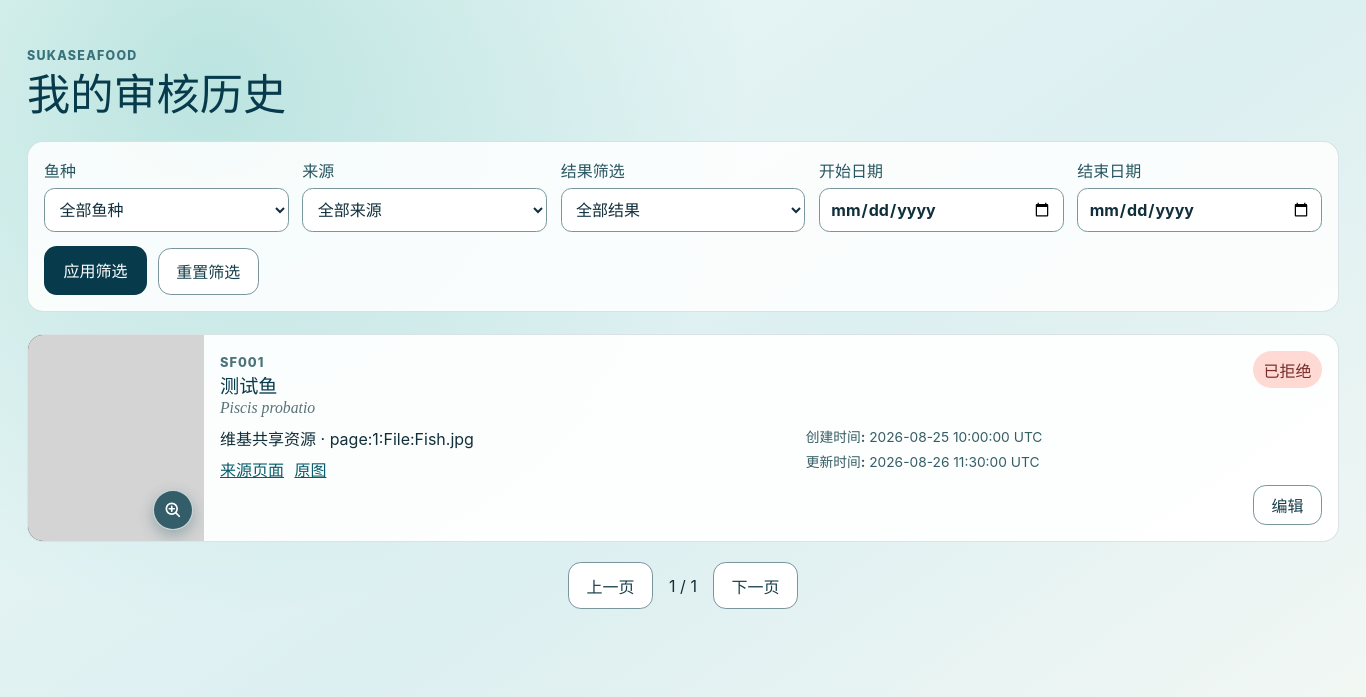
Test: HistoryPage links, privacy, and editing › sends one versioned CSRF PATCH and claims success only after validation and refetch
Click the button "编辑".
click(1287, 505)  # box [1253, 485, 1322, 525]
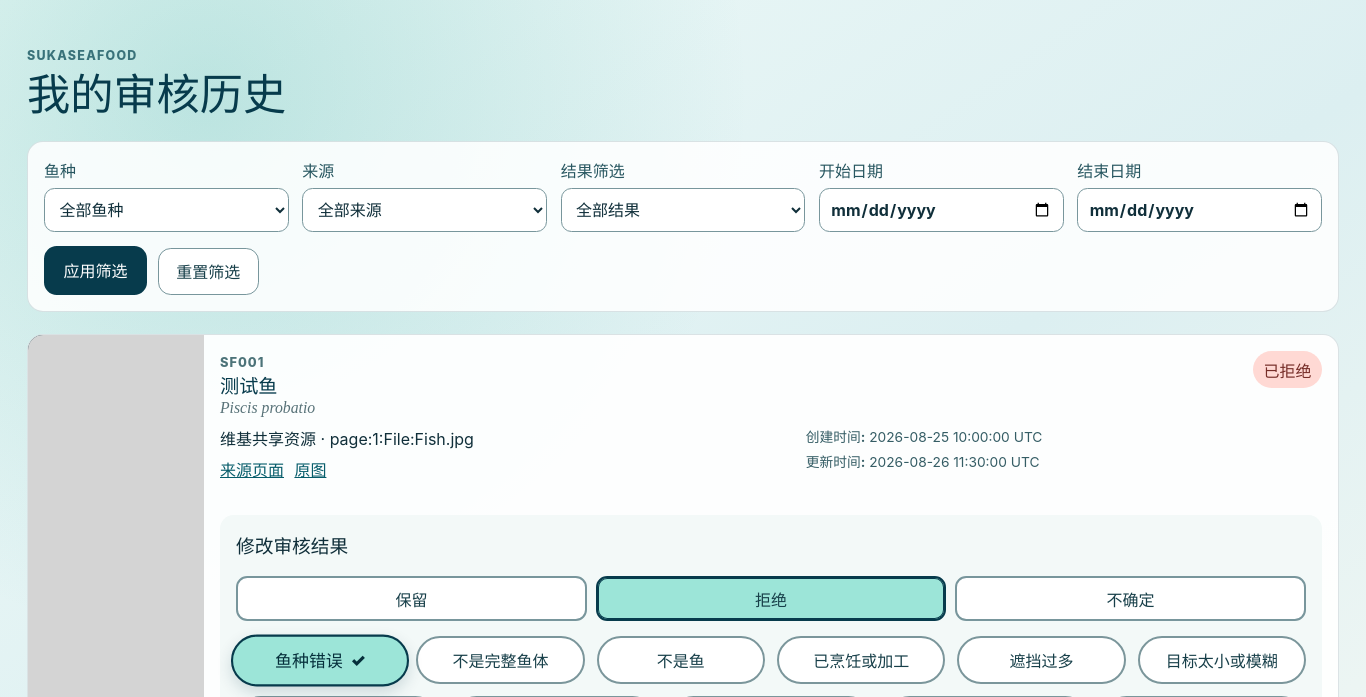
Click the button "保留".
click(411, 599)  # box [236, 576, 587, 621]
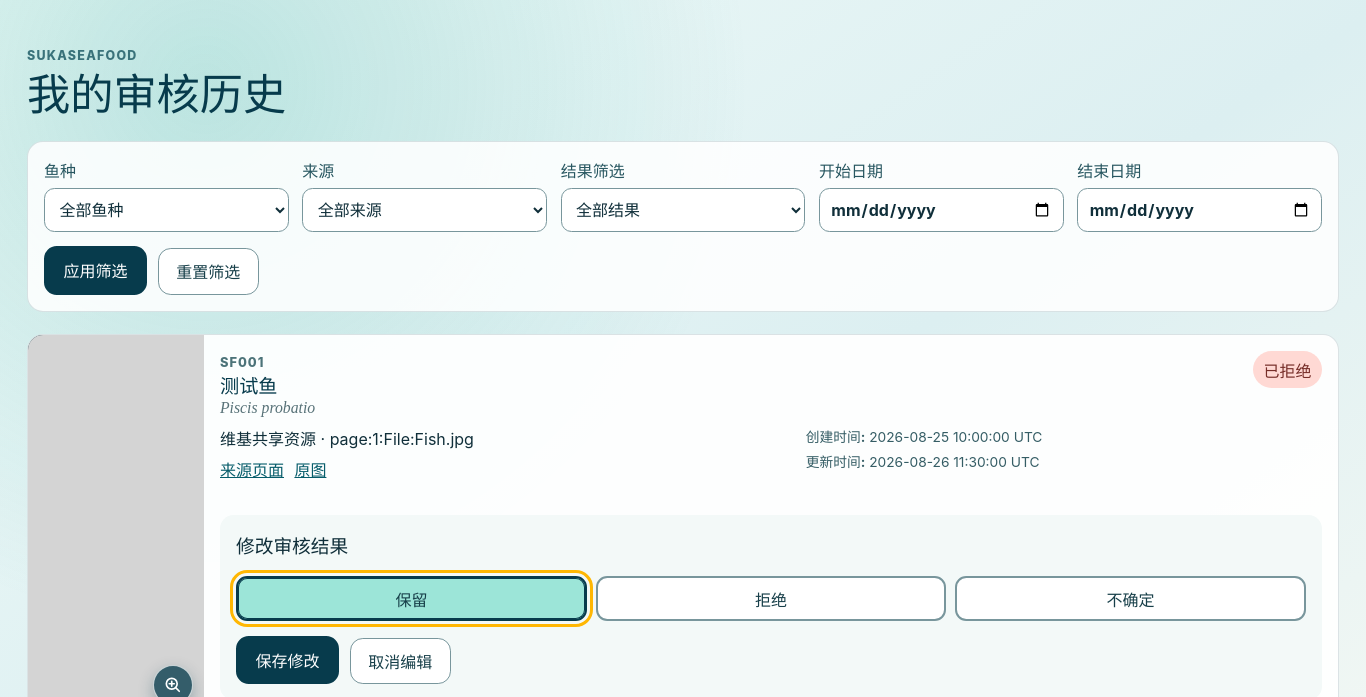
Click the button "保存修改".
click(288, 660)  # box [236, 636, 339, 684]
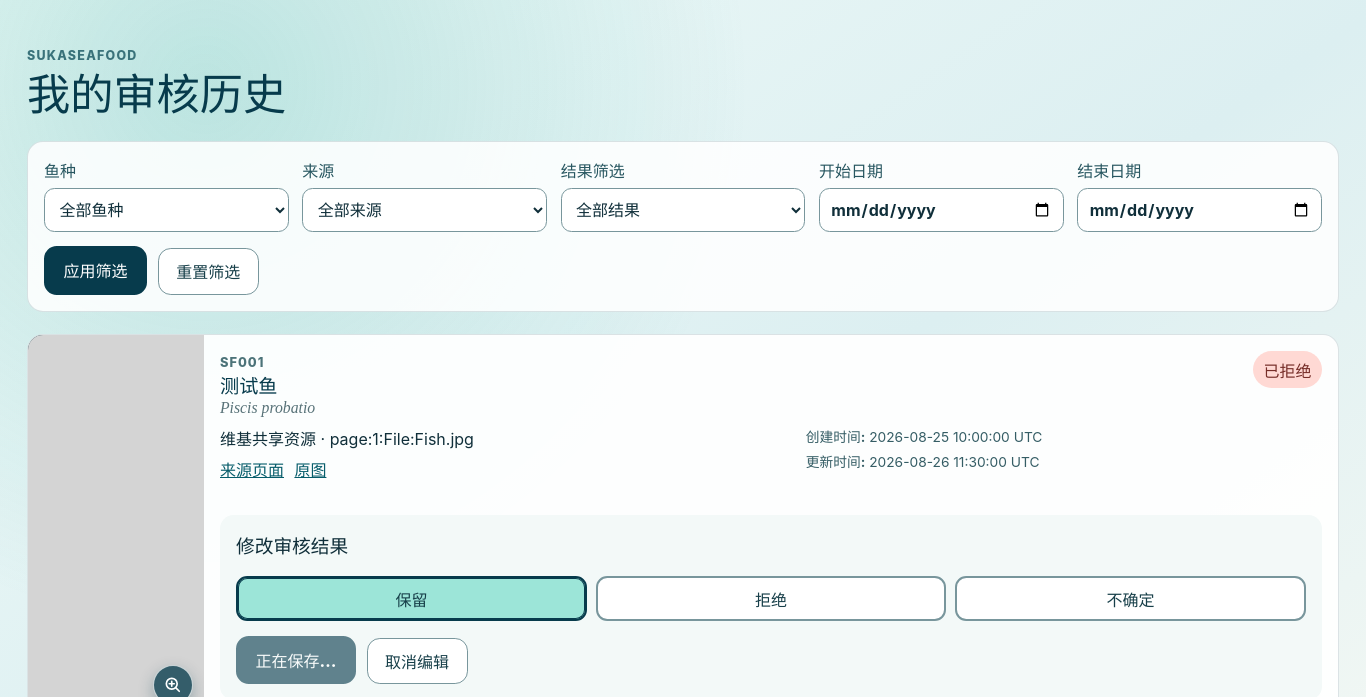
Click the button named "保存修改".
click(296, 660)  # box [236, 636, 356, 684]
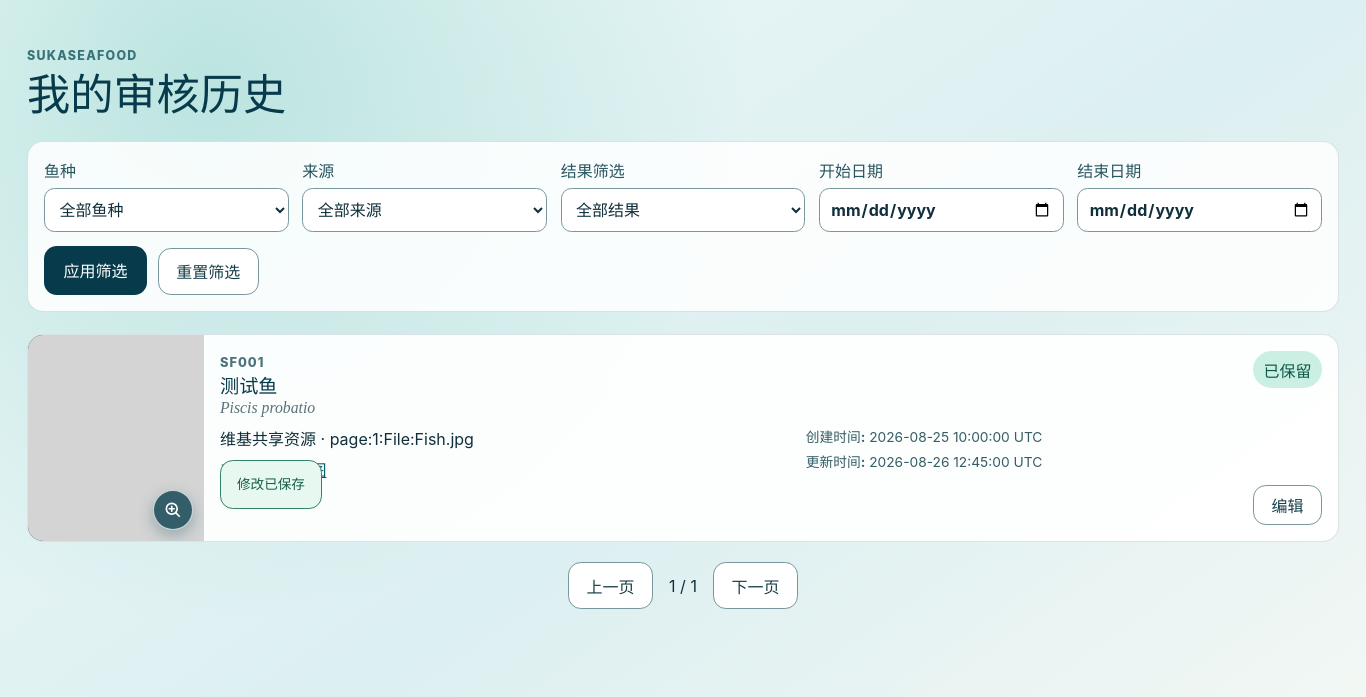
Expected: the text "2026-08-26 12:45:00 UTC" is shown, [869, 454, 1042, 470]
Now the text "修改已保存" is shown, box [220, 460, 322, 509]
